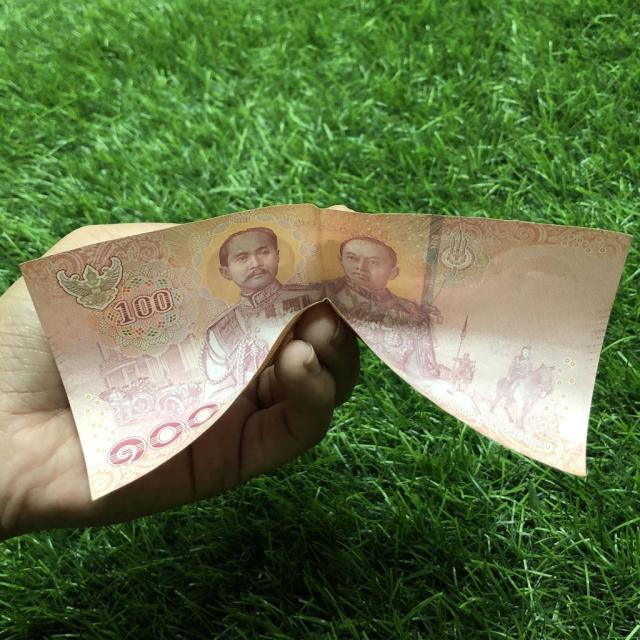THAI100: (22, 205, 630, 499)
